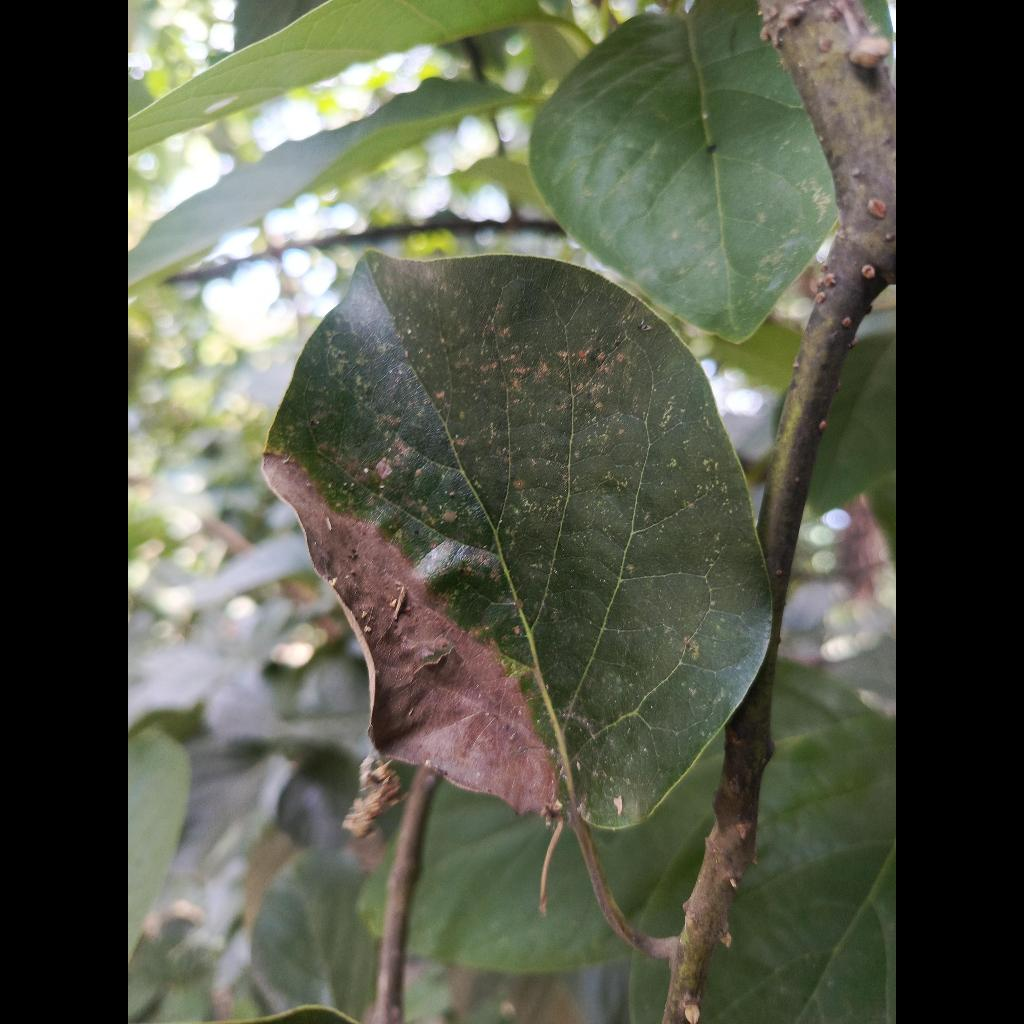antracnosis_hoja: (263, 251, 771, 828)
